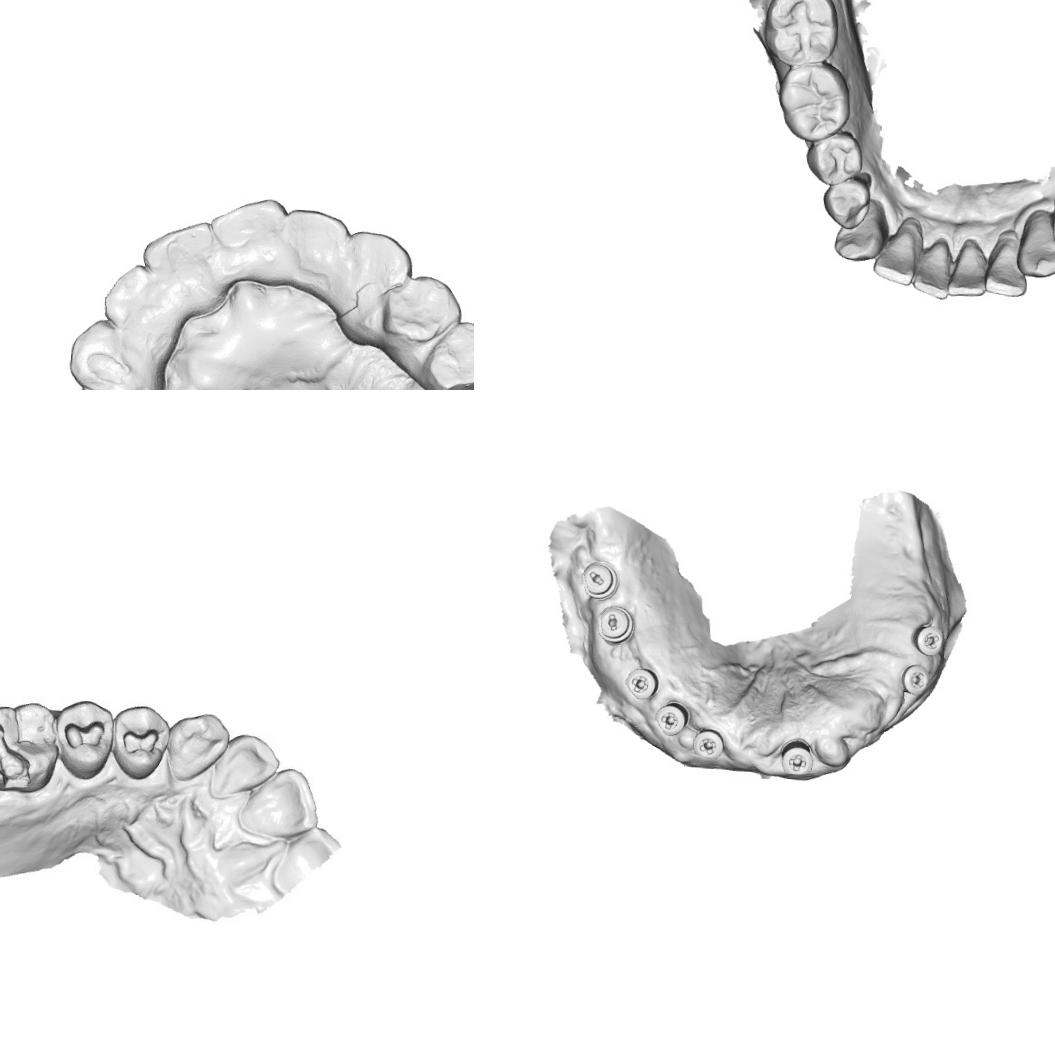canine: (63, 316, 136, 390), (164, 710, 231, 784), (341, 228, 416, 286), (831, 195, 891, 264), (1013, 206, 1055, 279)
implant_minus: (578, 559, 621, 602), (593, 603, 635, 645)
implant_plus: (778, 736, 816, 777), (652, 698, 690, 737), (622, 664, 660, 702), (908, 621, 946, 658), (690, 726, 726, 762), (898, 662, 932, 698)
incisor: (242, 764, 316, 838), (206, 194, 288, 258), (140, 216, 216, 282), (98, 263, 164, 336), (212, 732, 274, 801), (278, 206, 352, 262), (871, 213, 925, 287), (982, 227, 1030, 299), (910, 236, 955, 301), (946, 235, 990, 300)
inlay: (0, 715, 38, 792), (60, 715, 108, 753), (119, 723, 163, 757)
molar: (773, 56, 853, 144), (759, 0, 842, 68)
premolar: (379, 271, 460, 346), (802, 127, 864, 187), (424, 317, 474, 390), (820, 168, 872, 230)
